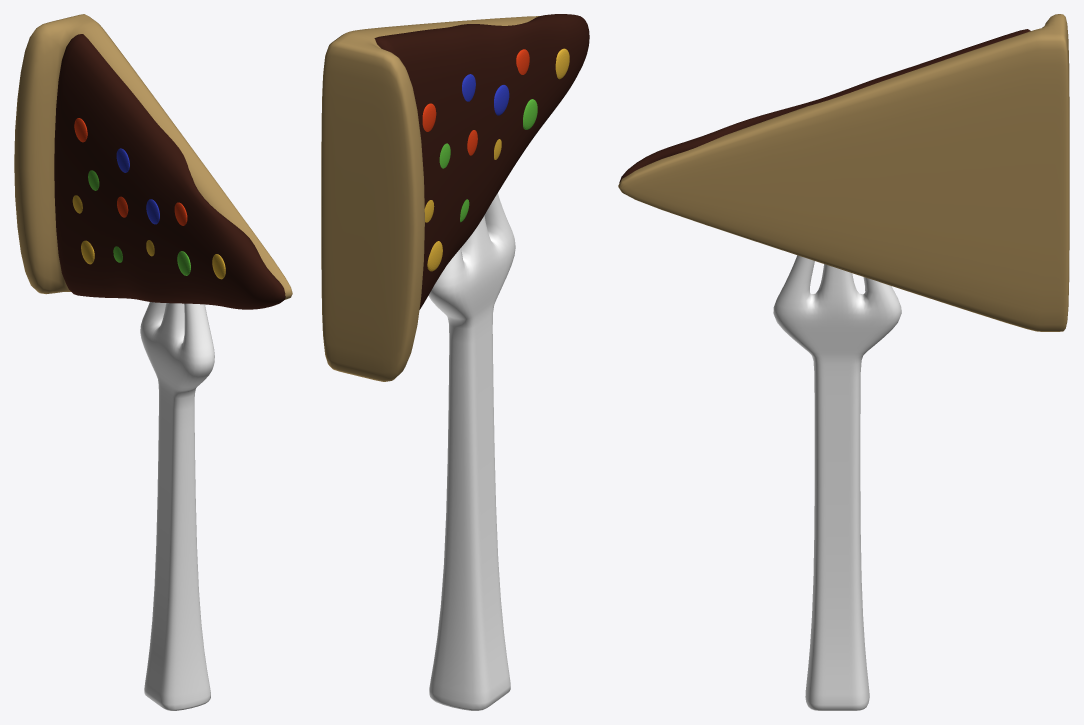
The model's file is 1.1_Placa.fbx.
The picture shows the model from 3 angles, left to right: view 1: azimuth 30°, elevation 25°; view 2: azimuth 150°, elevation 25°; view 3: azimuth 270°, elevation 25°; orthographic projection. The views are drawn at different scales.
Visible parts, largest first — view 1: Chocolate, Garfo, Pao, MM's; view 2: Pao, Garfo, Chocolate, MM's; view 3: Pao, Garfo, Chocolate.
Part boxes in pixels (box(x1,y1,x2,y2)): Chocolate: box(54, 34, 285, 309); Garfo: box(140, 302, 214, 710); Pao: box(14, 14, 292, 299); MM's: box(72, 118, 225, 279); Pao: box(321, 16, 539, 381); Garfo: box(428, 193, 515, 710); Chocolate: box(374, 14, 589, 309); MM's: box(422, 48, 569, 271); Pao: box(618, 14, 1069, 331); Garfo: box(773, 255, 901, 710); Chocolate: box(619, 29, 1030, 182).
Size of the model in its own units: 50.11 by 345 by 211.
